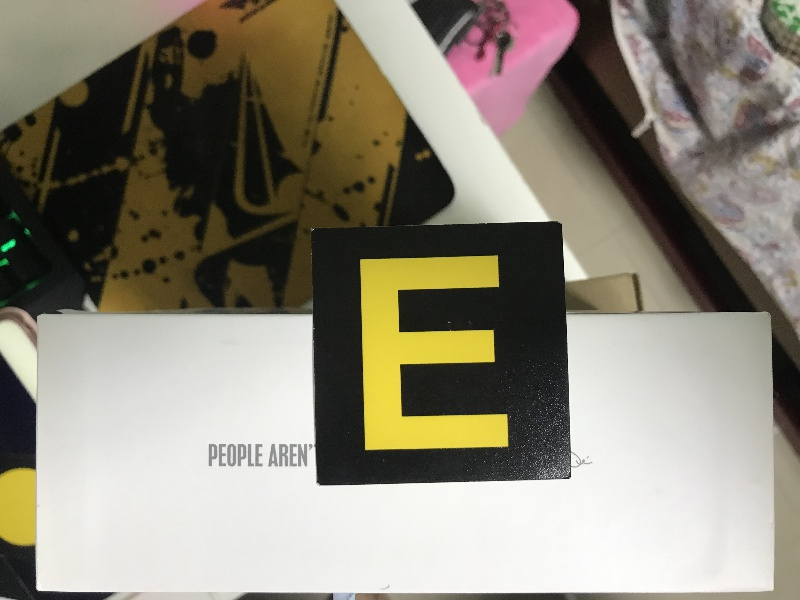E-15: (318, 229, 562, 476)
